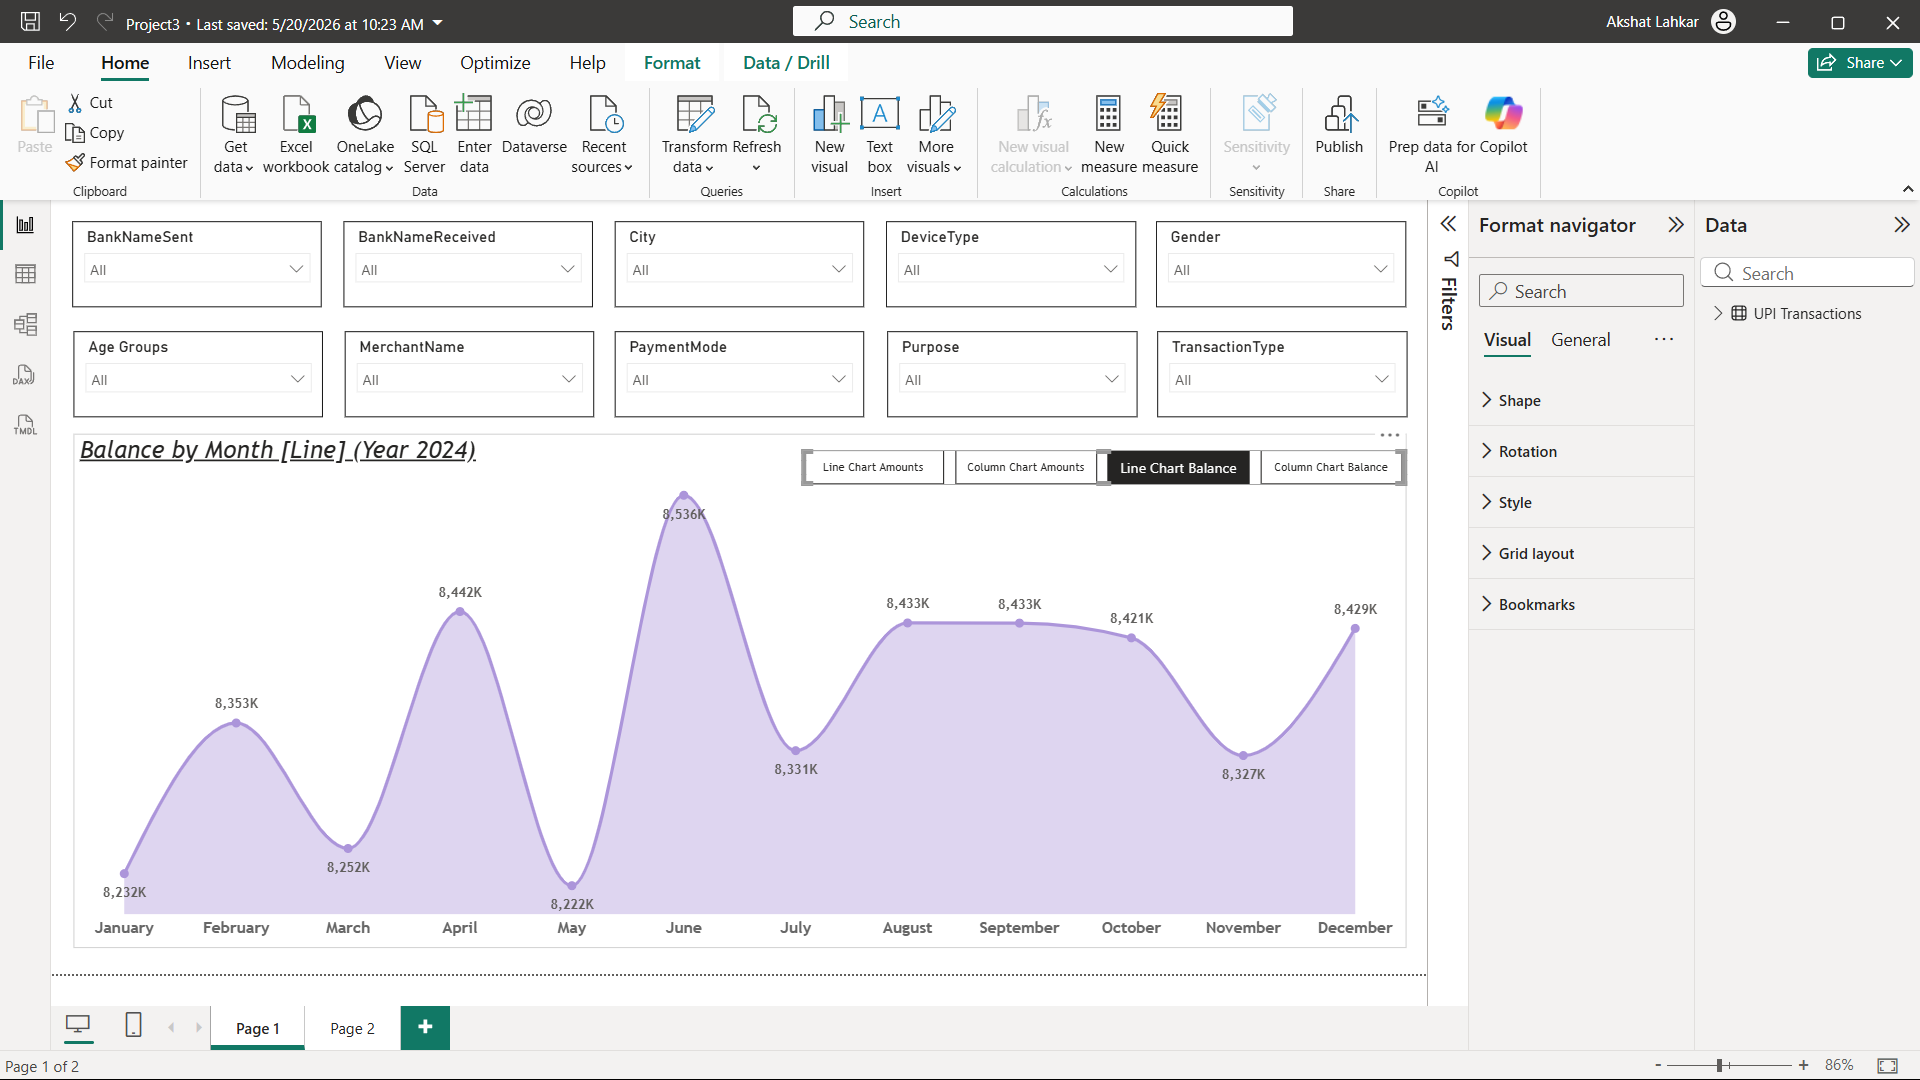

Layout of this report page (visuals, bound fields, positions):
{"tool":"powerbi","page":{"name":"Page 1","canvas":[1280,720],"ordinal":0},"visuals":[{"type":"slicer","fields":{"Values":["UPI Transactions.BankNameSent"]},"box":[20,20,232,80],"z":0},{"type":"slicer","fields":{"Values":["UPI Transactions.BankNameReceived"]},"box":[272,20,232,80.2],"z":1000},{"type":"slicer","fields":{"Values":["UPI Transactions.City"]},"box":[524,20,232,80.2],"z":2000},{"type":"slicer","fields":{"Values":["UPI Transactions.DeviceType"]},"box":[776.7,20,232.6,80.2],"z":3000},{"type":"slicer","fields":{"Values":["UPI Transactions.Gender"]},"box":[1028,20,232.6,80.2],"z":4000},{"type":"slicer","fields":{"Values":["UPI Transactions.Age Groups"]},"box":[20.7,122.1,232,80],"z":5000},{"type":"slicer","fields":{"Values":["UPI Transactions.MerchantName"]},"box":[272.7,122.1,232,80.2],"z":6000},{"type":"slicer","fields":{"Values":["UPI Transactions.PaymentMode"]},"box":[524.7,122.1,232,80.2],"z":7000},{"type":"slicer","fields":{"Values":["UPI Transactions.Purpose"]},"box":[777.4,122.1,232.6,80.2],"z":8000},{"type":"slicer","fields":{"Values":["UPI Transactions.TransactionType"]},"box":[1028.7,122.1,232.6,80.2],"z":9000},{"type":"columnChart","title":"Balance by Month [Column] (Year 2024)","fields":{"Category":["UPI Transactions.TransactionDate.Variation.Date Hierarchy.Month"],"Y":["Sum(UPI Transactions.RemainingBalance)"]},"box":[23.1,217.1,1239.7,477.9],"z":13000},{"type":"bookmarkNavigator","box":[698.8,232.5,561.4,32.1],"z":14000}]}

Visuals, with their boxes on the page's 1280x720 design canvas (x1, y1, x2, y2). These are canvas units, not pixel positions in the 1920x1080 screenshot, which may show the page scaled, cropped or inside an application window:
slicer - UPI Transactions.BankNameSent: {"left": 20, "top": 20, "right": 252, "bottom": 100}
slicer - UPI Transactions.BankNameReceived: {"left": 272, "top": 20, "right": 504, "bottom": 100}
slicer - UPI Transactions.City: {"left": 524, "top": 20, "right": 756, "bottom": 100}
slicer - UPI Transactions.DeviceType: {"left": 777, "top": 20, "right": 1009, "bottom": 100}
slicer - UPI Transactions.Gender: {"left": 1028, "top": 20, "right": 1261, "bottom": 100}
slicer - UPI Transactions.Age Groups: {"left": 21, "top": 122, "right": 253, "bottom": 202}
slicer - UPI Transactions.MerchantName: {"left": 273, "top": 122, "right": 505, "bottom": 202}
slicer - UPI Transactions.PaymentMode: {"left": 525, "top": 122, "right": 757, "bottom": 202}
slicer - UPI Transactions.Purpose: {"left": 777, "top": 122, "right": 1010, "bottom": 202}
slicer - UPI Transactions.TransactionType: {"left": 1029, "top": 122, "right": 1261, "bottom": 202}
"Balance by Month [Column] (Year 2024)" columnChart: {"left": 23, "top": 217, "right": 1263, "bottom": 695}
bookmarkNavigator: {"left": 699, "top": 232, "right": 1260, "bottom": 265}
